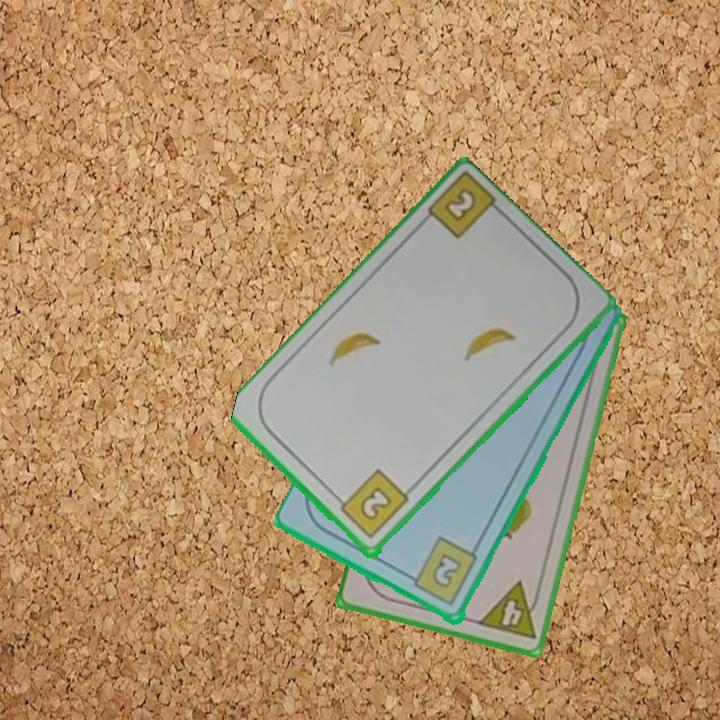2b: (332, 466, 412, 542), (403, 534, 481, 610), (440, 185, 480, 226)
4p: (474, 578, 545, 643)
